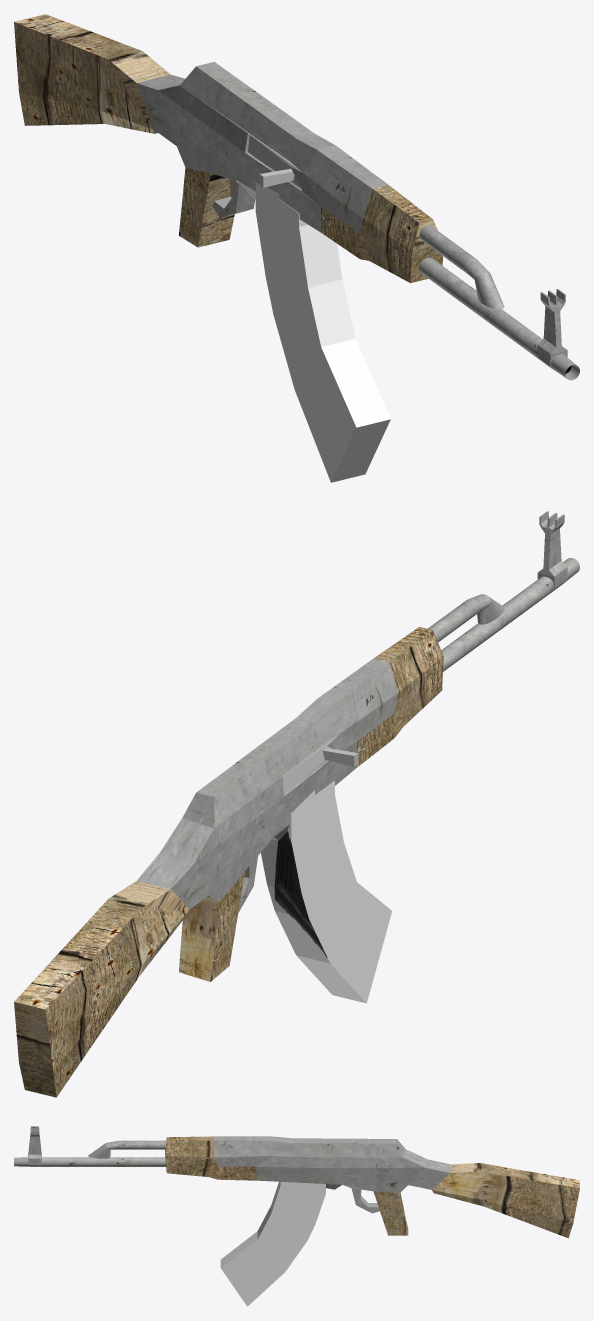
3 views of the same model, one above another, from view 1: azimuth 30°, elevation 25°; view 2: azimuth 150°, elevation 25°; view 3: azimuth 270°, elevation 25° (orthographic). The views are drawn at different scales.
Parts seen in each view (by area): view 1: body, Magazine, slider; view 2: body, Magazine, slider; view 3: body, Magazine.
Boxes of the visible parts, box(x1,y1,x2,y2) form: body: box(14, 14, 579, 380); Magazine: box(255, 182, 390, 482); slider: box(244, 126, 300, 188); body: box(14, 511, 579, 1097); Magazine: box(261, 781, 392, 1003); slider: box(275, 744, 358, 793); body: box(14, 1126, 579, 1238); Magazine: box(220, 1181, 325, 1306).
Bounding box in the file's own units: 0.4072 × 1.9 × 5.59.
